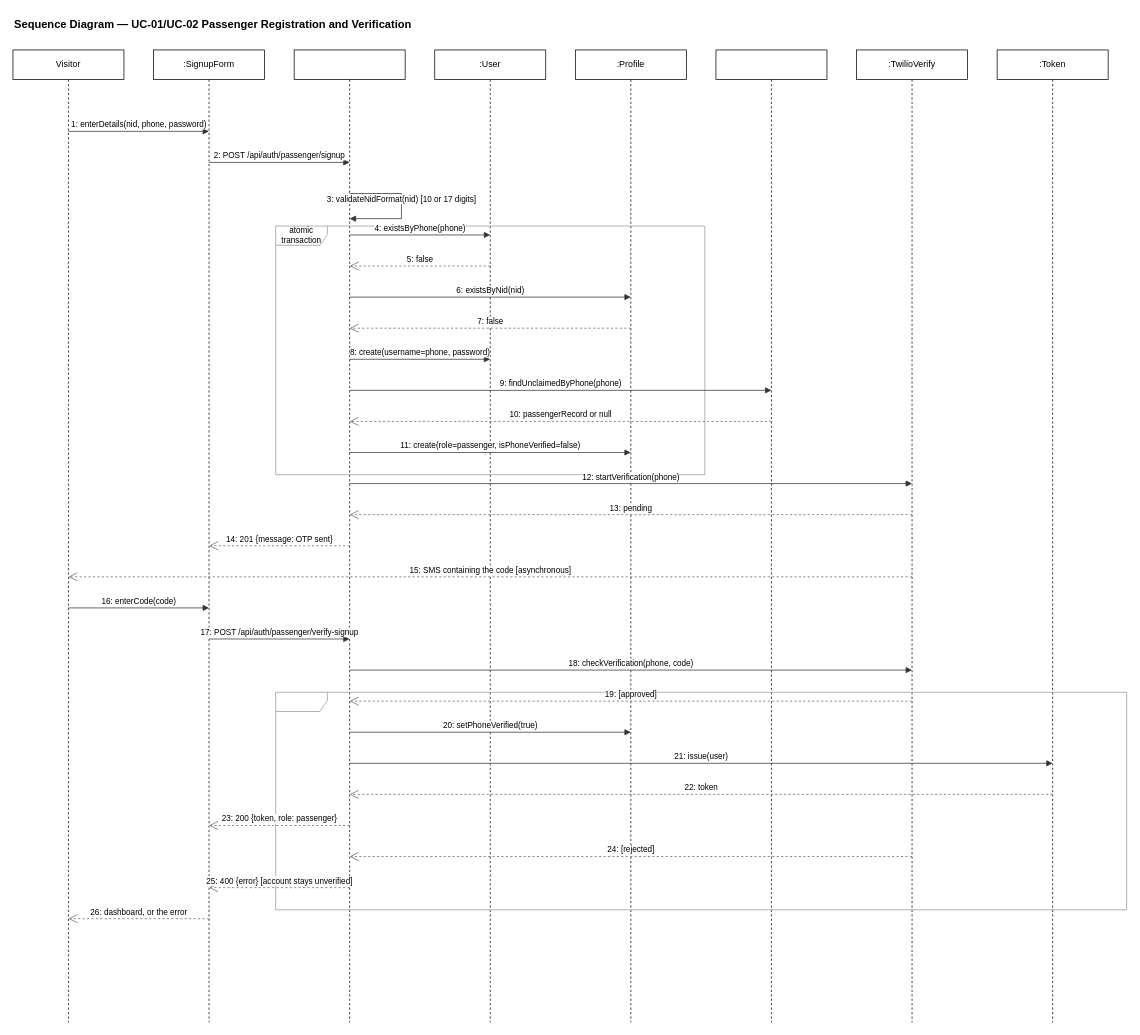
This 1140x1035 diagram has some shape labels left out. Each missing label, with the box of its shape:
:AuthController: (293, 49, 405, 1022)
:Passenger: (715, 49, 827, 1022)
alt [code approved / rejected]: (275, 692, 1127, 910)
